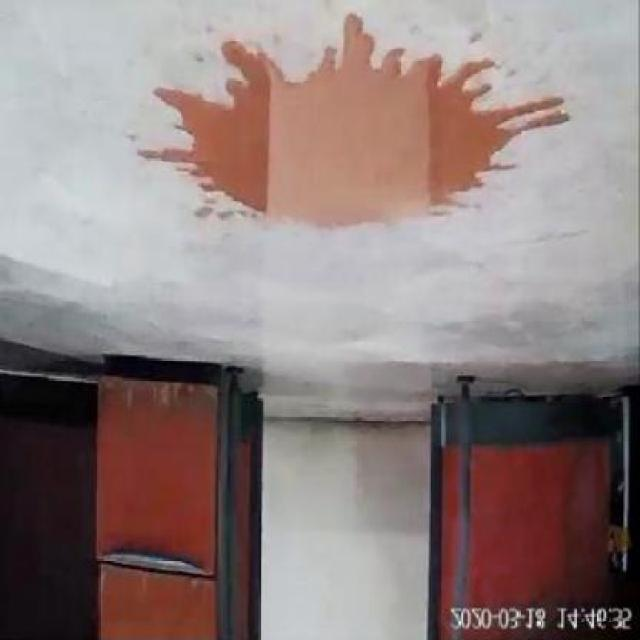spillage: (139, 14, 569, 226)
